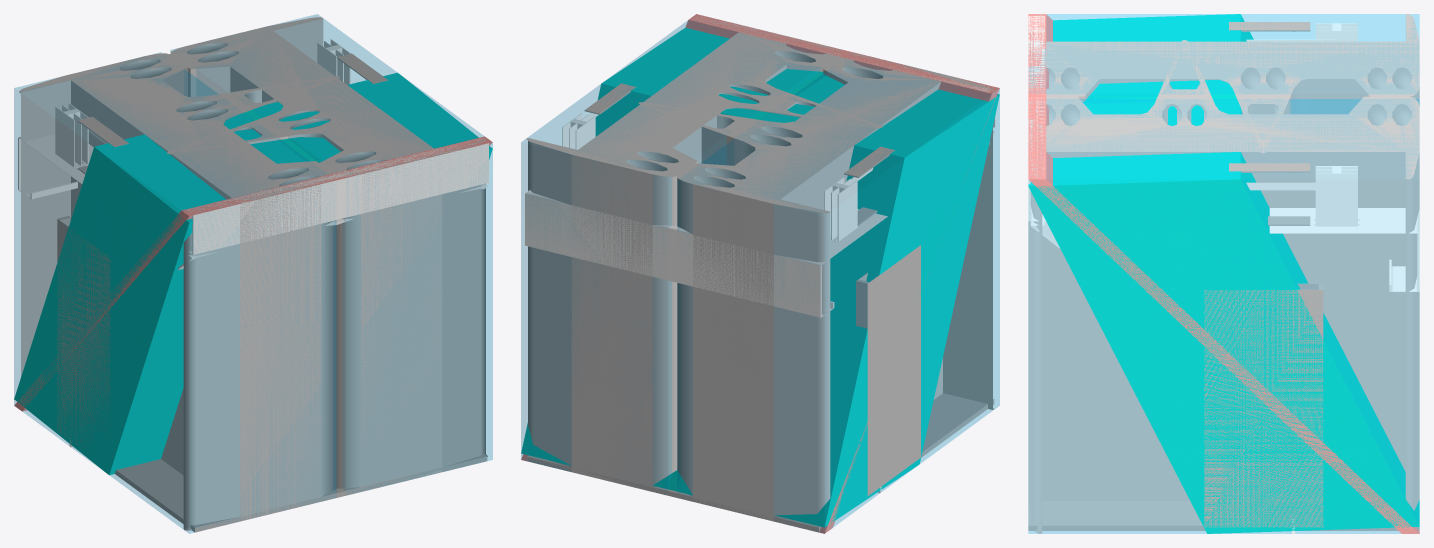
The picture shows the model from 3 angles, left to right: view 1: azimuth 30°, elevation 25°; view 2: azimuth 150°, elevation 25°; view 3: azimuth 270°, elevation 25°; orthographic projection. The views are drawn at different scales.
Size of the model in its own units: 65535 by 65535 by 65535.
